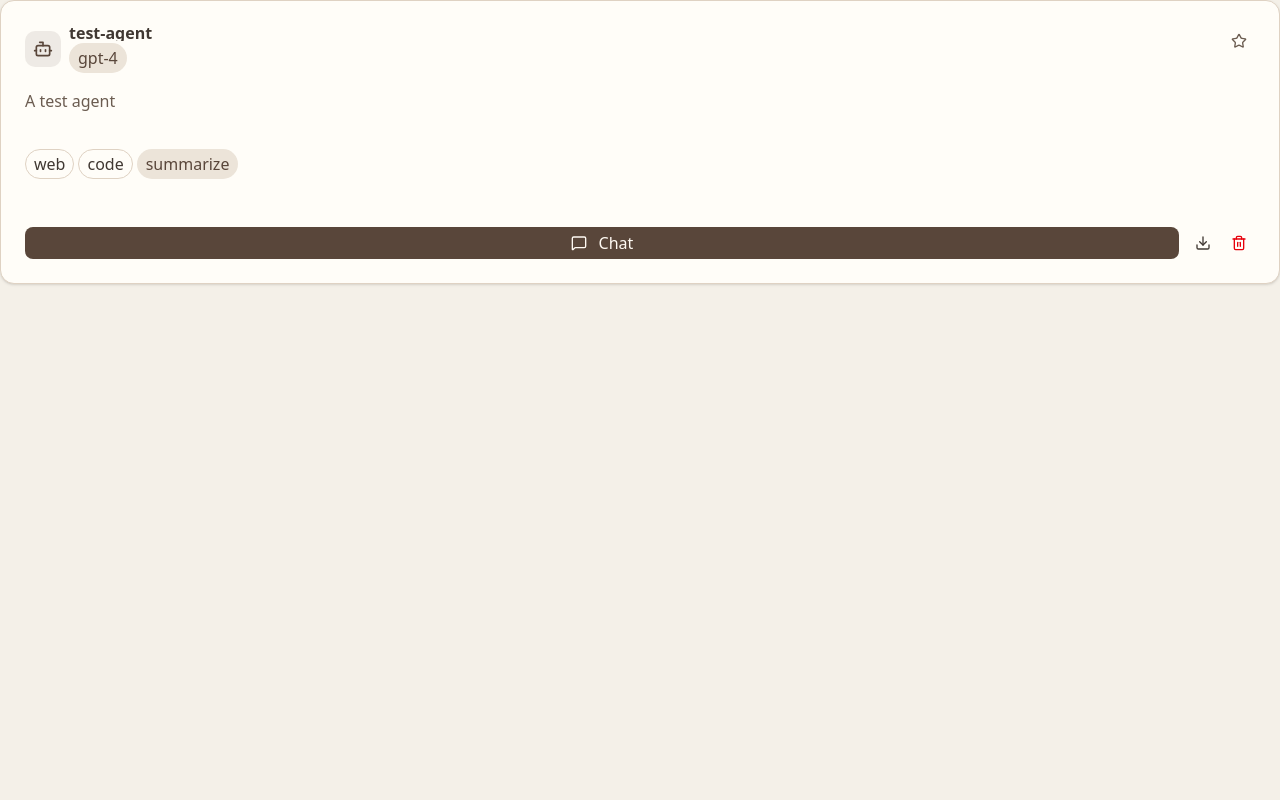
Test: AgentCard › clicking delete button opens the delete confirmation dialog
The width and height of the screenshot is (1280, 800).
Click the button with test id "agent-delete-button".
click(1239, 243)  # box x1=1223 y1=227 x2=1255 y2=259
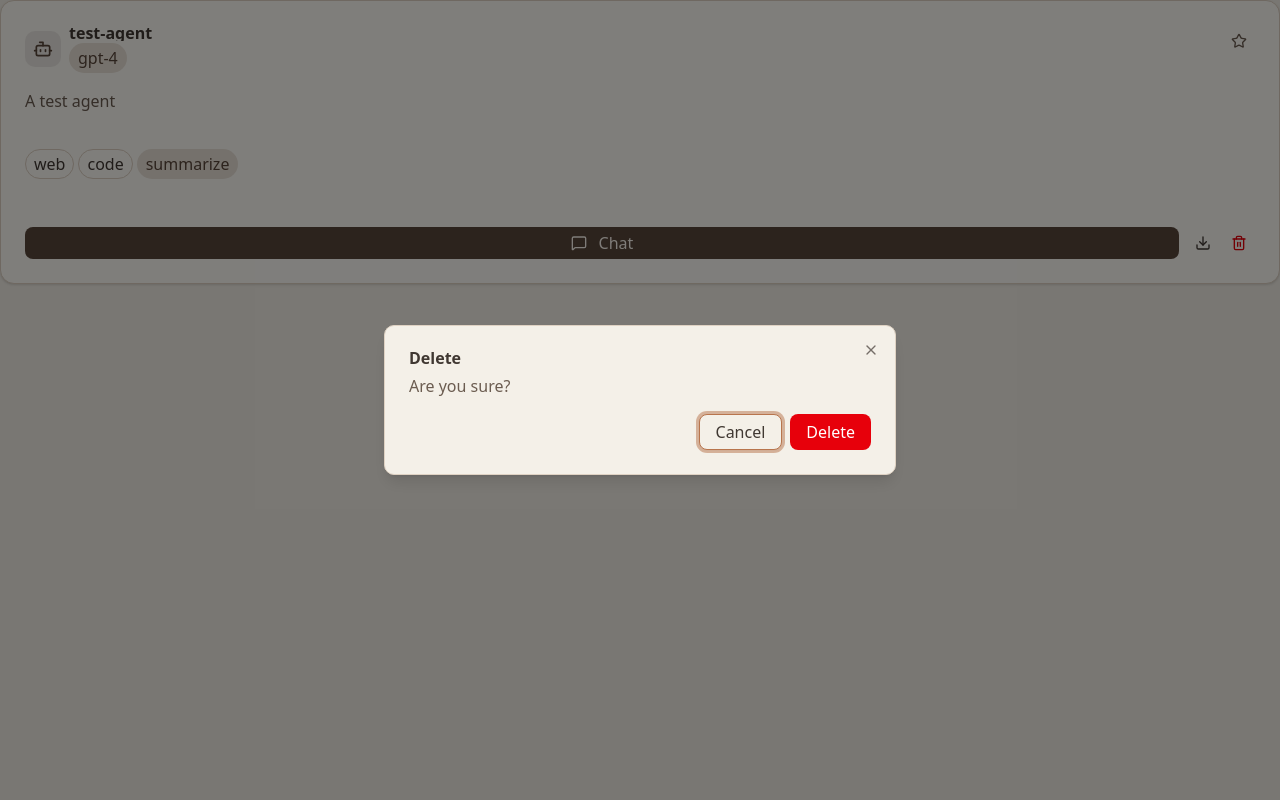
expect the dialog is shown: met, box x1=384 y1=325 x2=896 y2=475
expect the text "Are you sure?" is shown: met, box x1=409 y1=375 x2=510 y2=397
